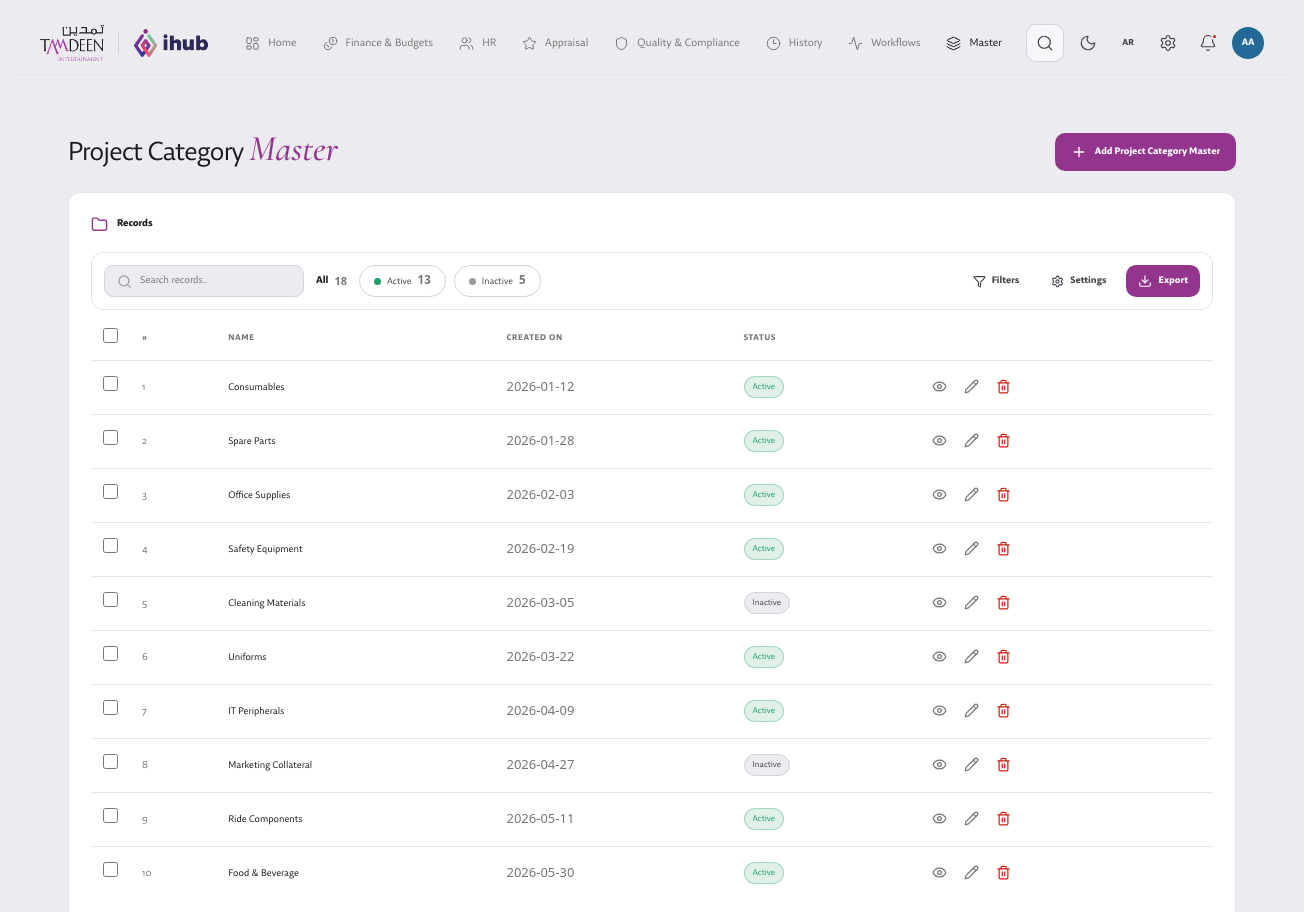
Scenario: AppShell › closes Masters from its overlay and restores focus
The image size is (1304, 912).
Click the button "Masters": (987, 43) [934,24,1040,62]
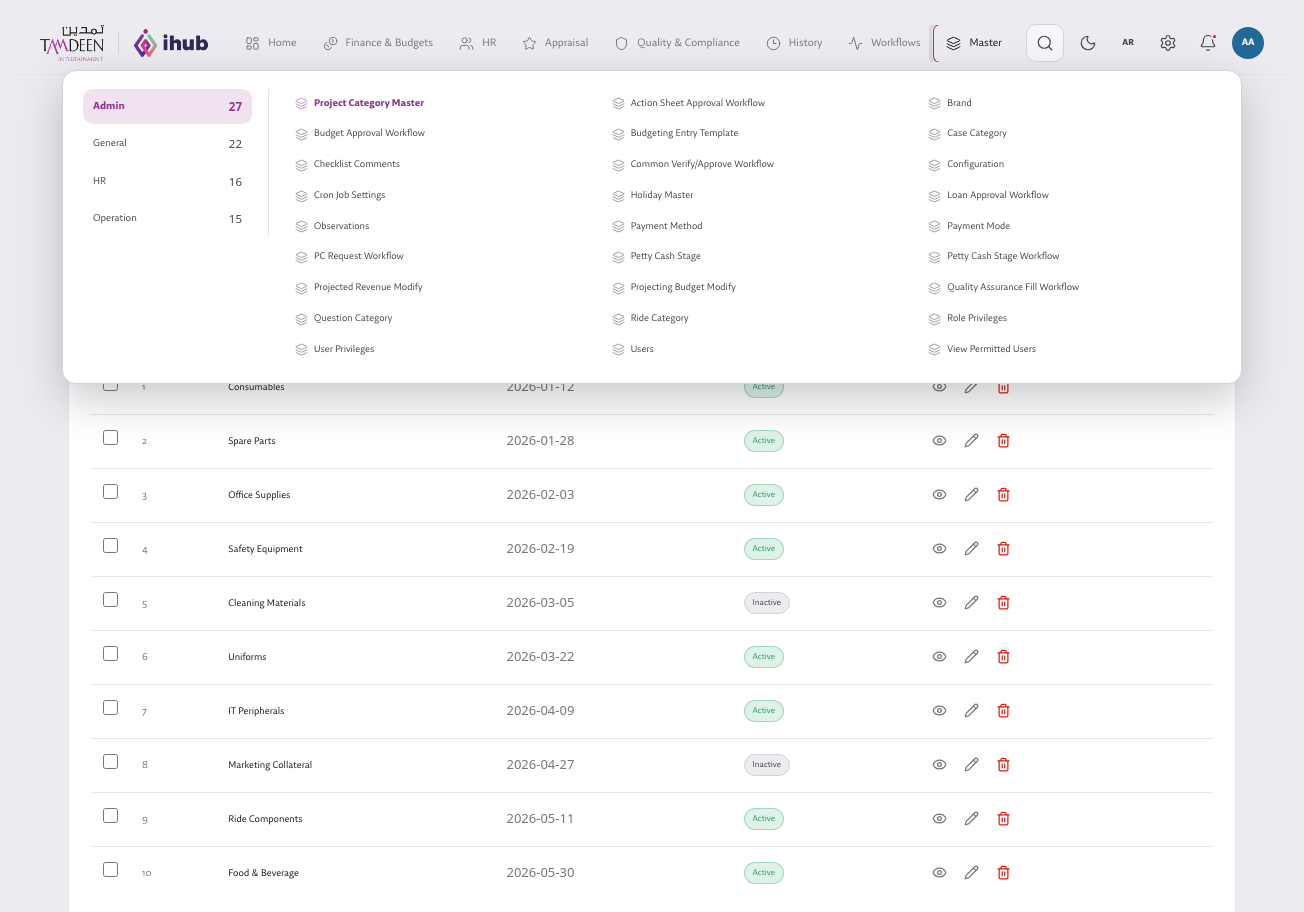
Click the button with test id "mega-menu-overlay": (652, 462) [12,12,1292,911]
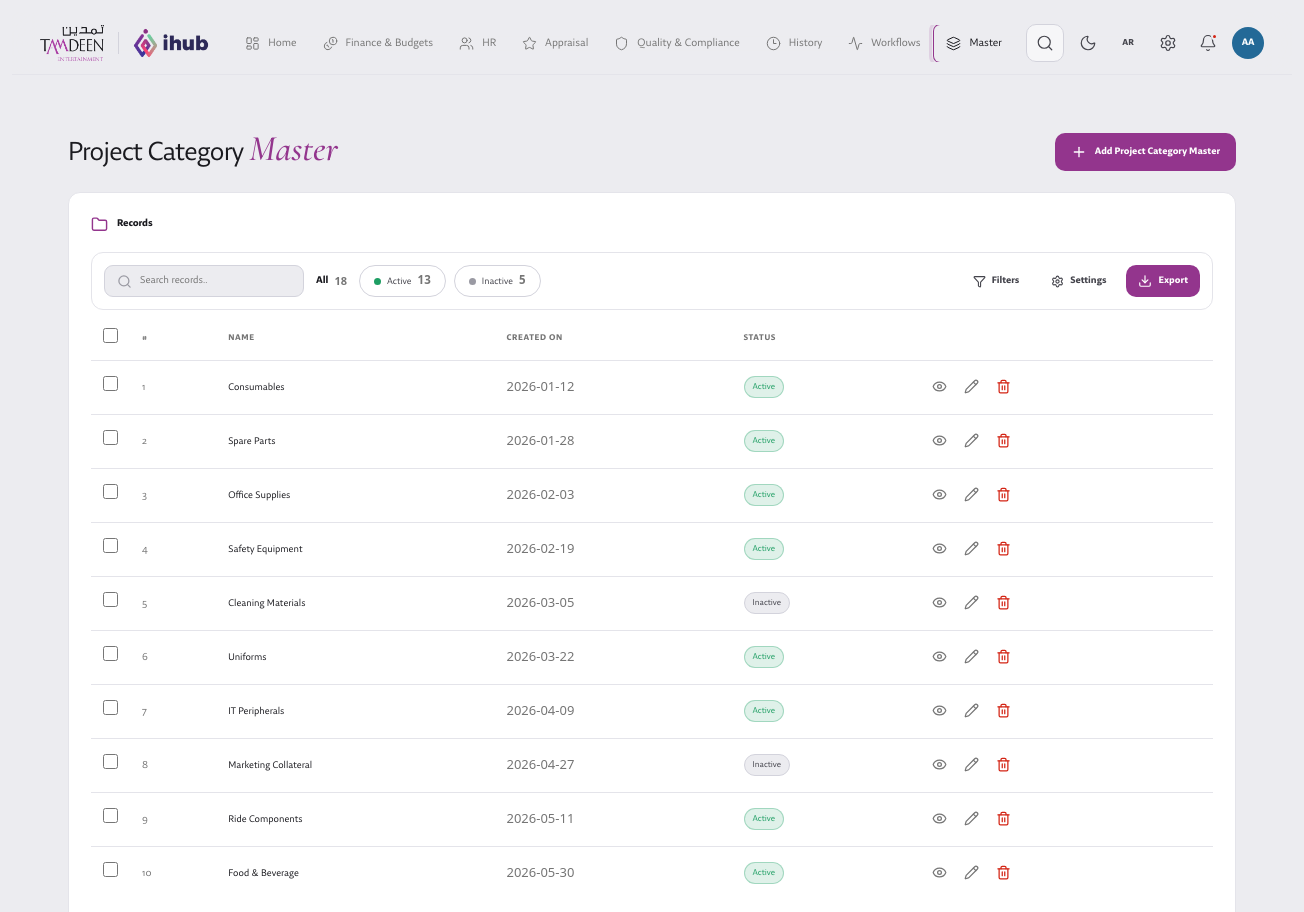
Expected: the element with test id "mega-menu" is gone
